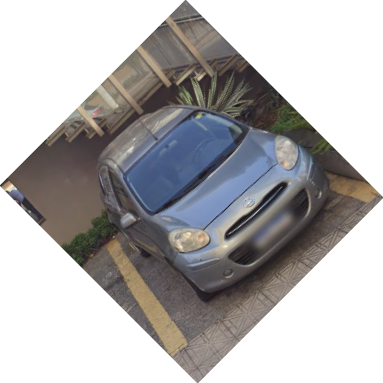car: (95, 102, 332, 305)
